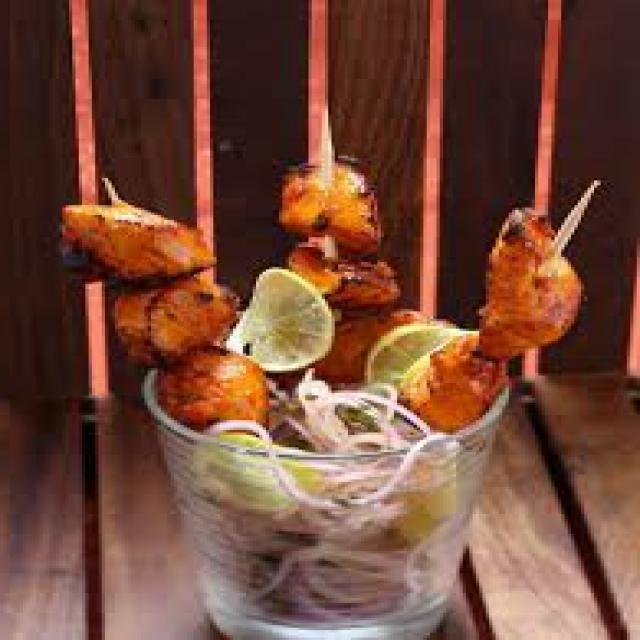Chicken Tikka: (53, 155, 593, 439)
